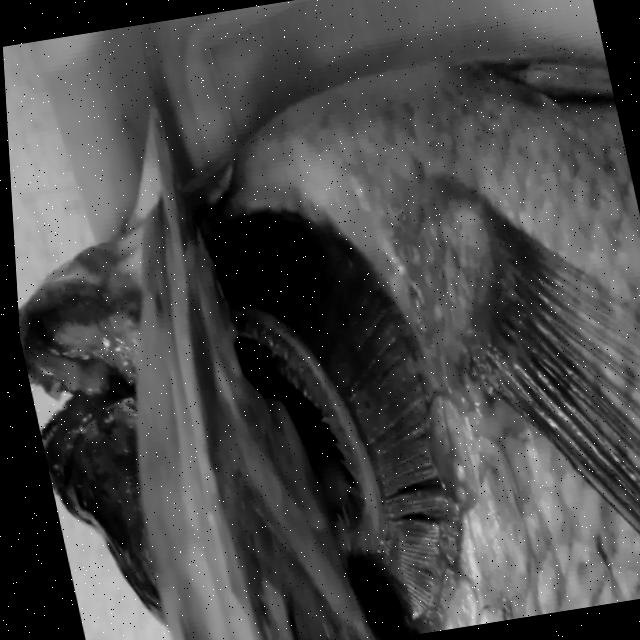Non-Fresh: (176, 151, 496, 640)
